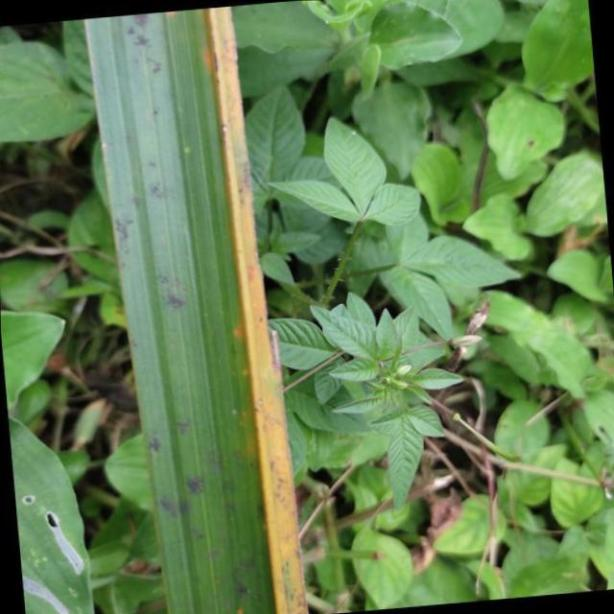Megnesium: (82, 7, 307, 614)
